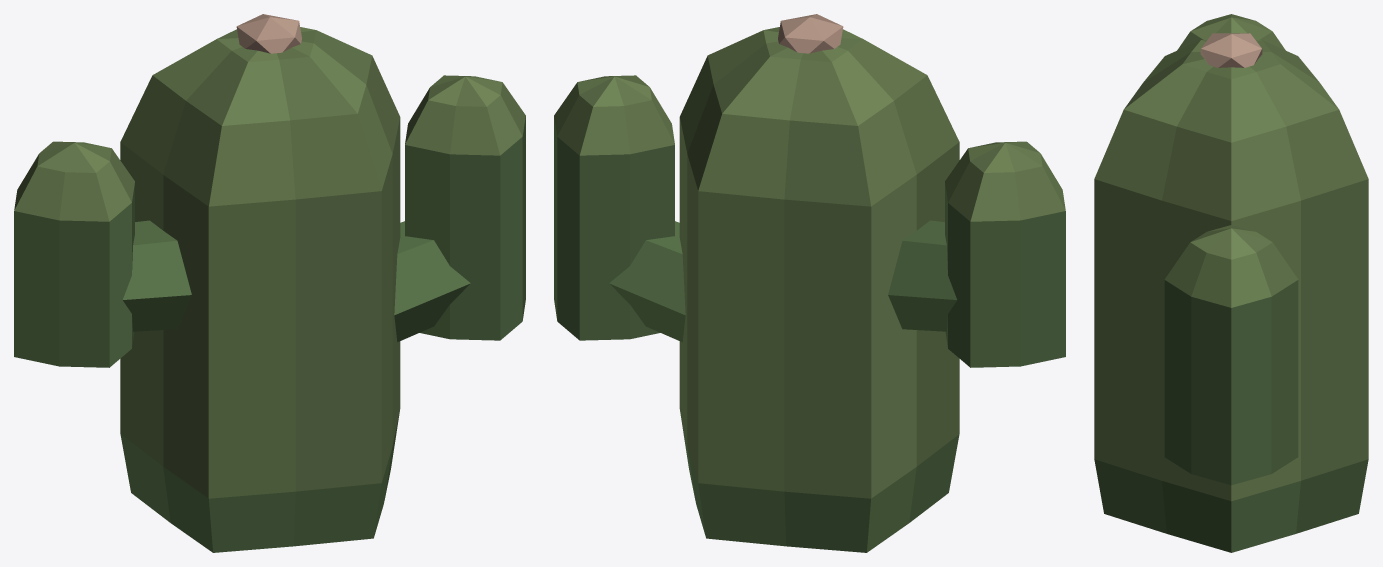
3 renders of one model, left to right at view 1: azimuth 30°, elevation 25°; view 2: azimuth 150°, elevation 25°; view 3: azimuth 270°, elevation 25°, orthographic. The views are drawn at different scales.
Parts seen in each view (by area): view 1: desert-cactus; view 2: desert-cactus; view 3: desert-cactus.
Boxes of the visible parts, <box> form: desert-cactus: <box>14,14,525,552</box>; desert-cactus: <box>554,14,1065,552</box>; desert-cactus: <box>1094,14,1368,552</box>.
Bounding box in the file's own units: 0.55 × 0.495 × 0.2663.
